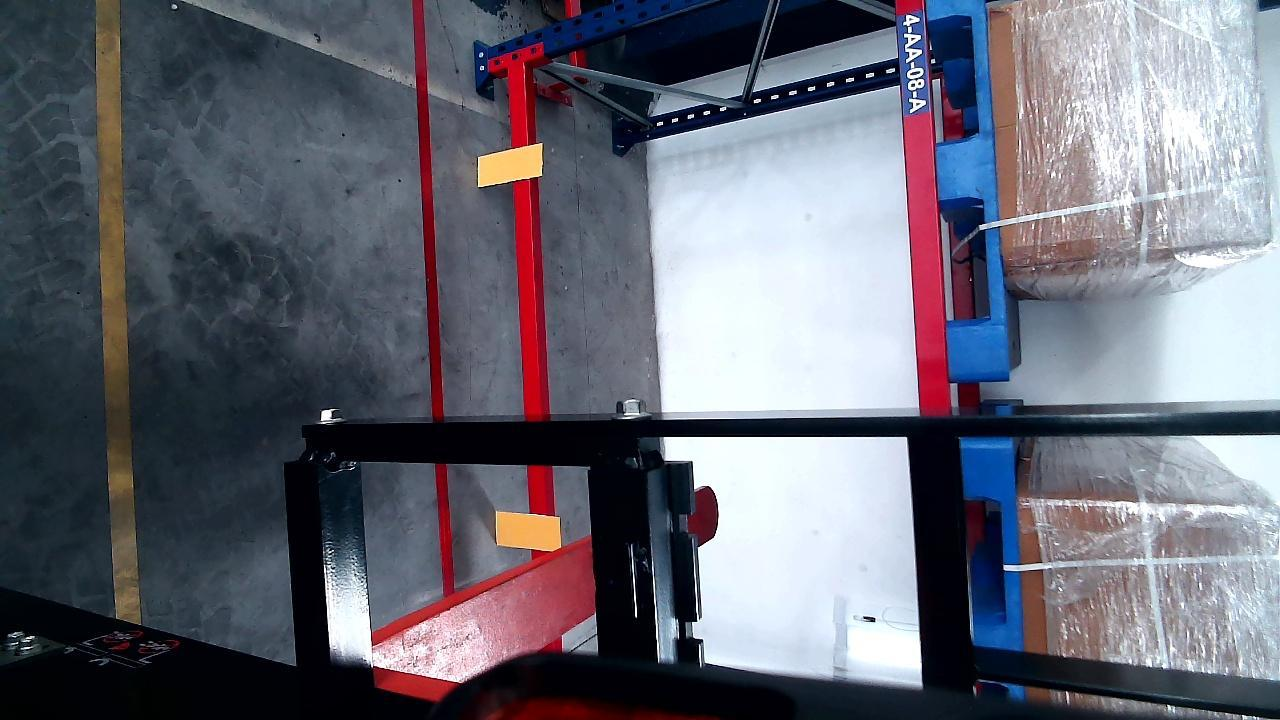red_line: (414, 0, 450, 595)
yellow_line: (94, 0, 140, 627)
